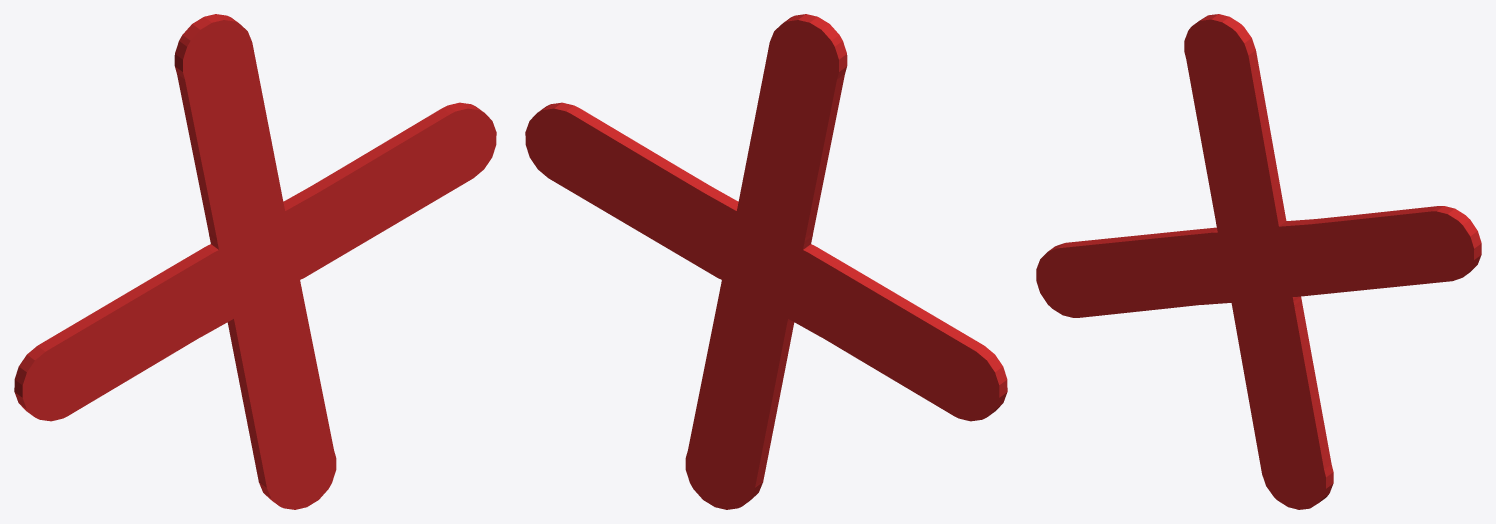
File: converted_link2_16_d12626ff.obj
The picture shows the model from 3 angles, left to right: view 1: azimuth 30°, elevation 25°; view 2: azimuth 150°, elevation 25°; view 3: azimuth 330°, elevation 25°; orthographic projection. The views are drawn at different scales.
Bounding box in the file's own units: 0.00335 × 0.00343 × 0.0001.
